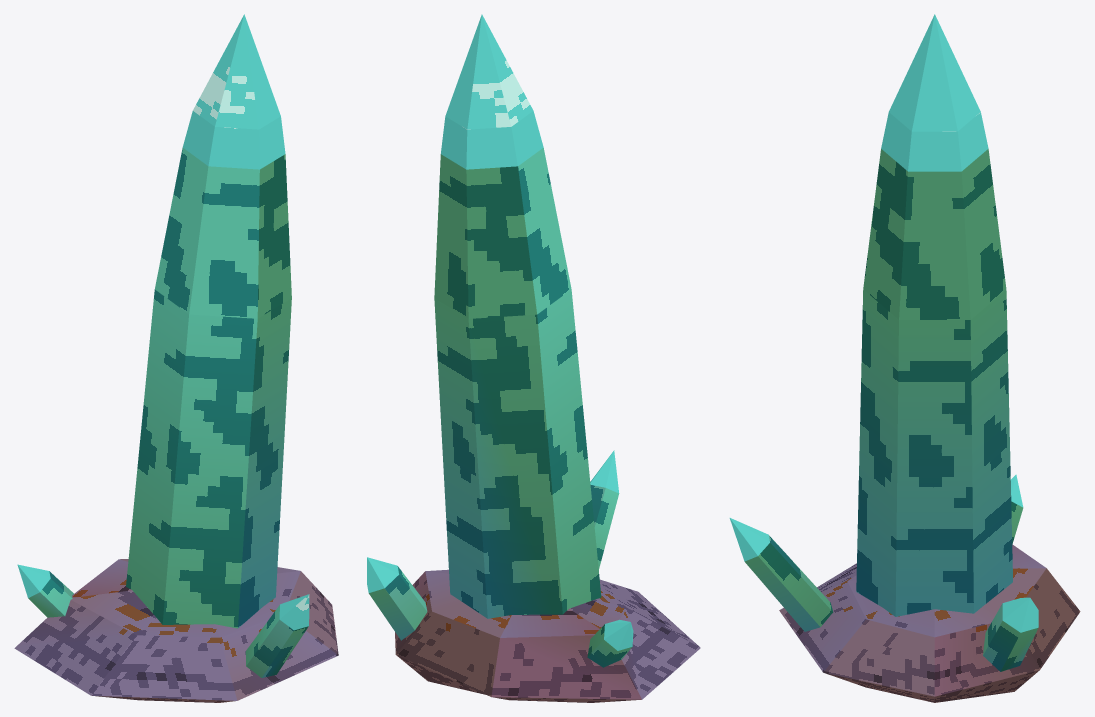
Rendered from alien.spire.glb.
The picture shows the model from 3 angles, left to right: view 1: azimuth 30°, elevation 25°; view 2: azimuth 150°, elevation 25°; view 3: azimuth 270°, elevation 25°; orthographic projection. The views are drawn at different scales.
Parts seen in each view (by area): view 1: kit_spire, kit_foot, kit_satellite_2, kit_satellite_1; view 2: kit_spire, kit_foot, kit_satellite_0, kit_satellite_2, kit_satellite_1; view 3: kit_spire, kit_foot, kit_satellite_2, kit_satellite_0.
Part boxes in pixels (x1,y1,x2,y2): kit_spire: (126,14,291,628); kit_foot: (14,559,338,702); kit_satellite_2: (245,594,309,677); kit_satellite_1: (17,564,73,617); kit_spire: (434,14,601,618); kit_foot: (395,569,700,702); kit_satellite_0: (367,557,427,640); kit_satellite_2: (590,450,619,569); kit_satellite_1: (587,619,633,667); kit_spire: (856,14,1012,616); kit_foot: (779,544,1080,702); kit_satellite_2: (729,518,833,631); kit_satellite_0: (983,597,1038,671).
Bounding box in the file's own units: 2.66 × 5.78 × 2.74.
3 materials, 3 textured.
